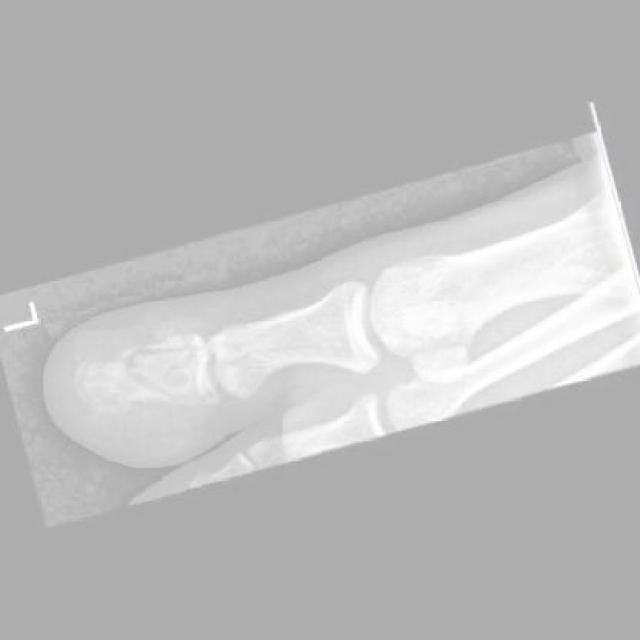Fracture: (58, 322, 211, 439)
